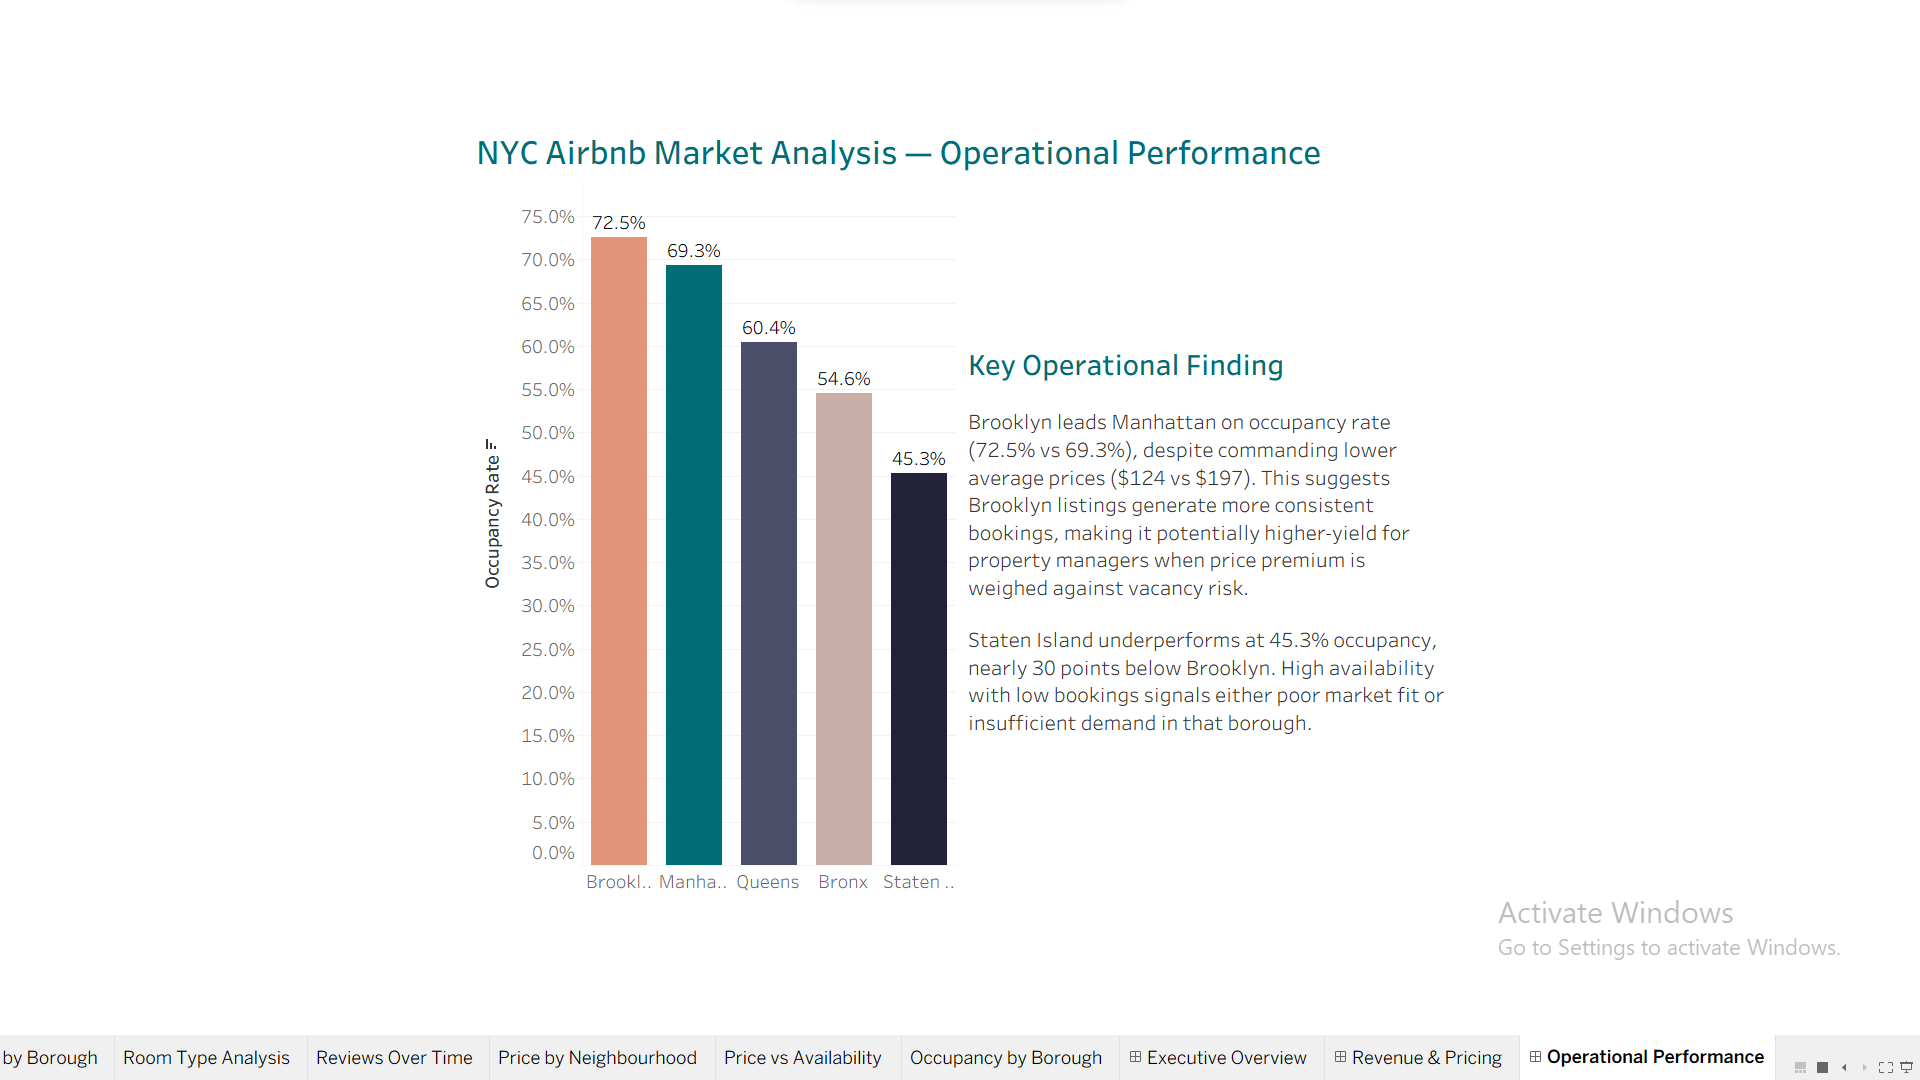

What the dashboard file says about the page in this screenshot:
{"tool":"tableau","page":{"name":"Operational Performance","canvas":[1000,800],"ordinal":1},"visuals":[{"type":"title","box":[8,8,984,52]},{"type":"worksheet","title":"Occupancy by Borough","mark":"Automatic","rows":["Calculation_1173454870339584"],"cols":["neighbourhood_group"],"box":[8,60,492,732]},{"type":"text","box":[500,60,492,732]}]}

Visuals, with their boxes on the page's 1000x800 design canvas (x1, y1, x2, y2). These are canvas units, not pixel positions in the 1920x1080 screenshot, which may show the page scaled, cropped or inside an application window:
title: [8,8,992,60]
"Occupancy by Borough" worksheet: [8,60,500,792]
text: [500,60,992,792]
